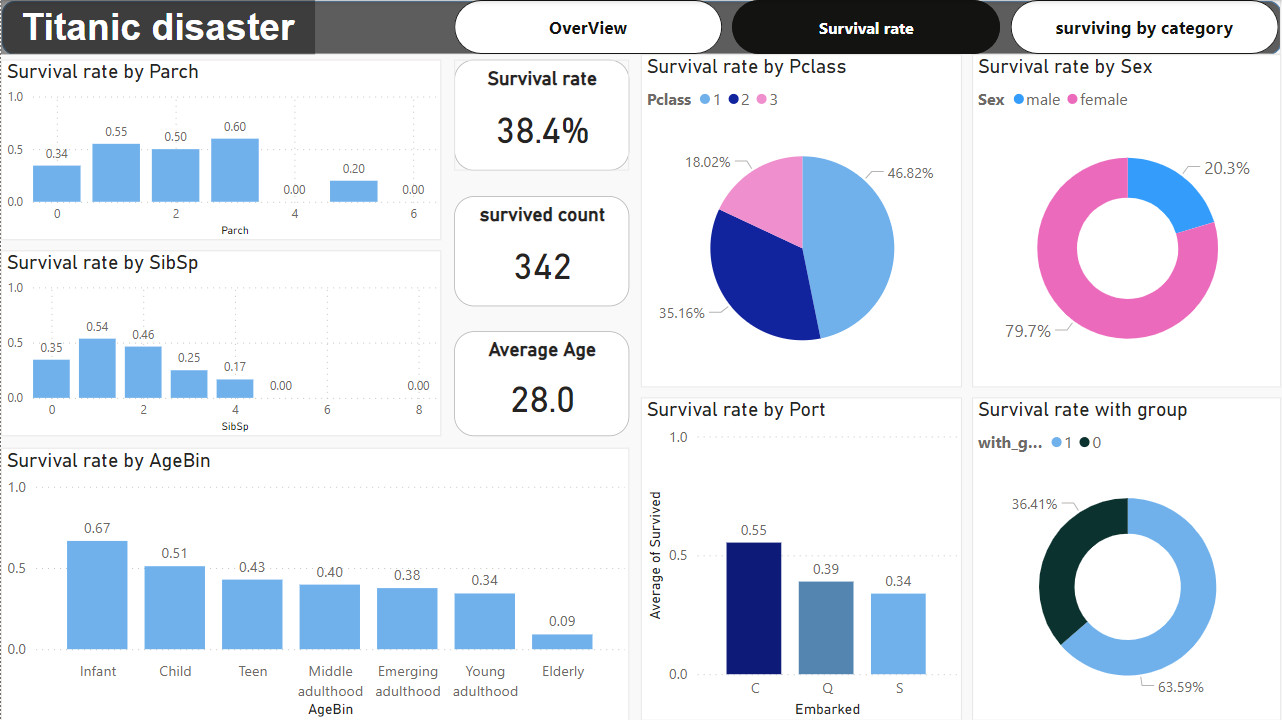

The page's visual inventory and layout, read from the dashboard file:
{"tool":"powerbi","page":{"name":"Suravival rate","canvas":[1280,720],"ordinal":1},"visuals":[{"type":"pieChart","title":"Survival rate by Pclass","fields":{"Category":["EDA.Pclass"],"Y":["Avg(EDA.Survived)"]},"box":[639.7,54.3,320.5,332.5],"z":0},{"type":"donutChart","title":"Survival rate by Sex","fields":{"Category":["EDA.Sex"],"Y":["Avg(EDA.Survived)"]},"box":[970.9,54.3,308.6,332.5],"z":1000},{"type":"clusteredColumnChart","title":"Survival rate by AgeBin","fields":{"Category":["EDA.AgeBin"],"Y":["Avg(EDA.Survived)"]},"box":[0,447.7,627.8,272.9],"z":2000},{"type":"clusteredColumnChart","title":"Survival rate by Port","fields":{"Category":["EDA.Embarked"],"Y":["Avg(EDA.Survived)"]},"box":[639.7,397.4,320.5,323.2],"z":3000},{"type":"donutChart","title":"Survival rate with group","fields":{"Category":["EDA.with_group"],"Y":["Avg(EDA.Survived)"]},"box":[970.9,397.4,308.6,323.2],"z":4000},{"type":"shape","box":[0,0,1279.5,54.3],"z":5000},{"type":"textbox","box":[0,0,313.9,54.3],"z":6000},{"type":"card","title":"Survival rate","fields":{"Values":["_measures.survival rate"]},"box":[453,59.6,174.8,111.3],"z":7000},{"type":"card","title":"survived count","fields":{"Values":["Sum(EDA.Survived)"]},"box":[453,196,174.8,109.9],"z":8000},{"type":"card","title":"Average Age","fields":{"Values":["Median(EDA.Age)"]},"box":[453,331.1,174.8,104.6],"z":9000},{"type":"clusteredColumnChart","title":"Survival rate by Parch","fields":{"Category":["EDA.Parch"],"Y":["Avg(EDA.Survived)"]},"box":[0,59.6,439.7,180.1],"z":10000},{"type":"clusteredColumnChart","title":"Survival rate by SibSp","fields":{"Category":["EDA.SibSp"],"Y":["Avg(EDA.Survived)"]},"box":[0,250.3,439.7,185.4],"z":11000},{"type":"bookmarkNavigator","box":[453,0,826.5,54.3],"z":12000}]}

Visuals, with their boxes in screenshot pixels (x1, y1, x2, y2), scaled from the page's 1280x720 canvas onto the 1282x720 screenshot:
"Survival rate by Pclass" pieChart: bbox=(641, 54, 962, 387)
"Survival rate by Sex" donutChart: bbox=(972, 54, 1281, 387)
"Survival rate by AgeBin" clusteredColumnChart: bbox=(0, 448, 629, 719)
"Survival rate by Port" clusteredColumnChart: bbox=(641, 397, 962, 719)
"Survival rate with group" donutChart: bbox=(972, 397, 1281, 719)
shape: bbox=(0, 0, 1281, 54)
textbox: bbox=(0, 0, 314, 54)
"Survival rate" card: bbox=(454, 60, 629, 171)
"survived count" card: bbox=(454, 196, 629, 306)
"Average Age" card: bbox=(454, 331, 629, 436)
"Survival rate by Parch" clusteredColumnChart: bbox=(0, 60, 440, 240)
"Survival rate by SibSp" clusteredColumnChart: bbox=(0, 250, 440, 436)
bookmarkNavigator: bbox=(454, 0, 1281, 54)
